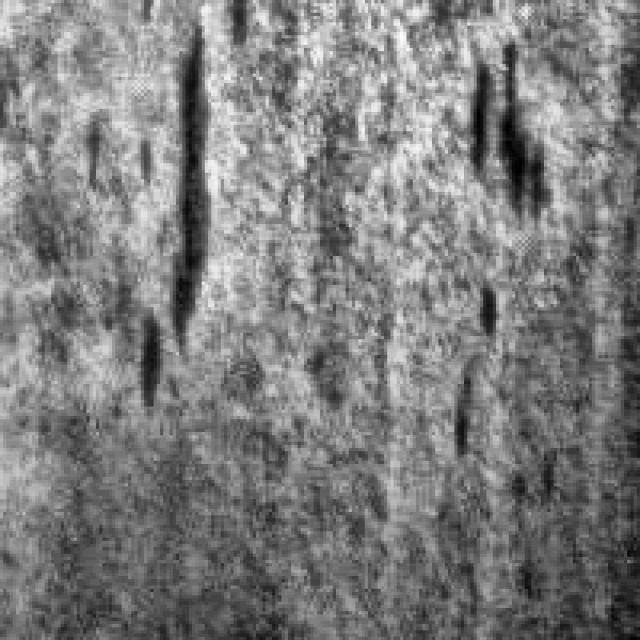Patches: (115, 9, 211, 417), (442, 26, 556, 228), (432, 266, 509, 467)
